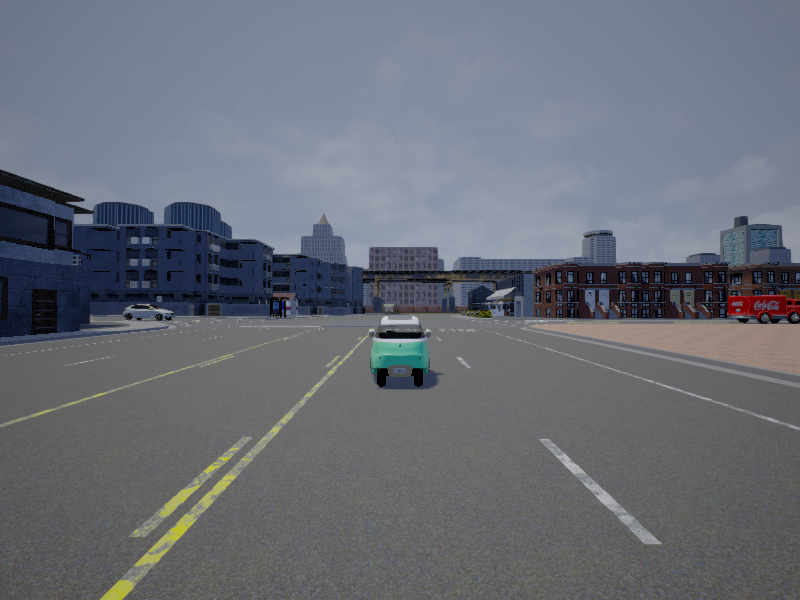Benign: (369, 315, 432, 388), (727, 297, 800, 326), (124, 302, 174, 323)
